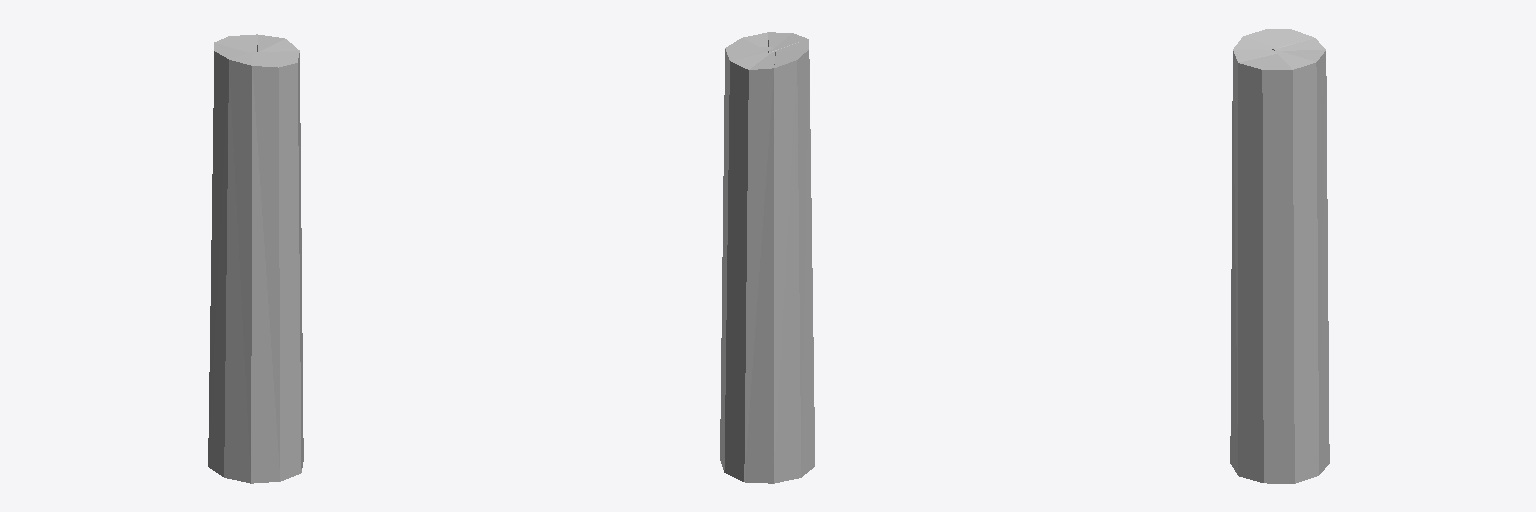
The model's file is TreeTrunk2.obj.
The picture shows the model from 3 angles: view 1: azimuth 30°, elevation 25°; view 2: azimuth 150°, elevation 25°; view 3: azimuth 270°, elevation 25°; orthographic projection.
Parts seen in each view (by area): view 1: Tree; view 2: Tree; view 3: Tree.
Boxes of the visible parts, box(x1,y1,x2,y2) form: Tree: box(208, 34, 303, 483); Tree: box(720, 32, 814, 483); Tree: box(1230, 29, 1329, 483).
Size of the model in its own units: 0.3293 by 1.63 by 0.3487.